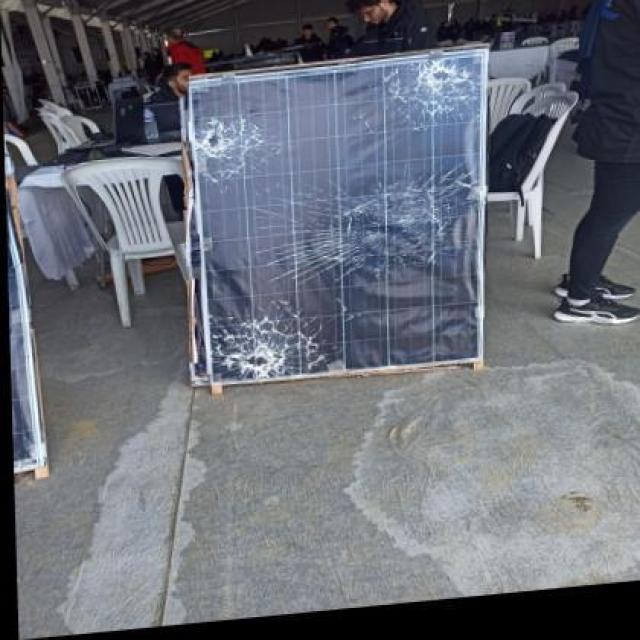cracked: (188, 49, 492, 381)
